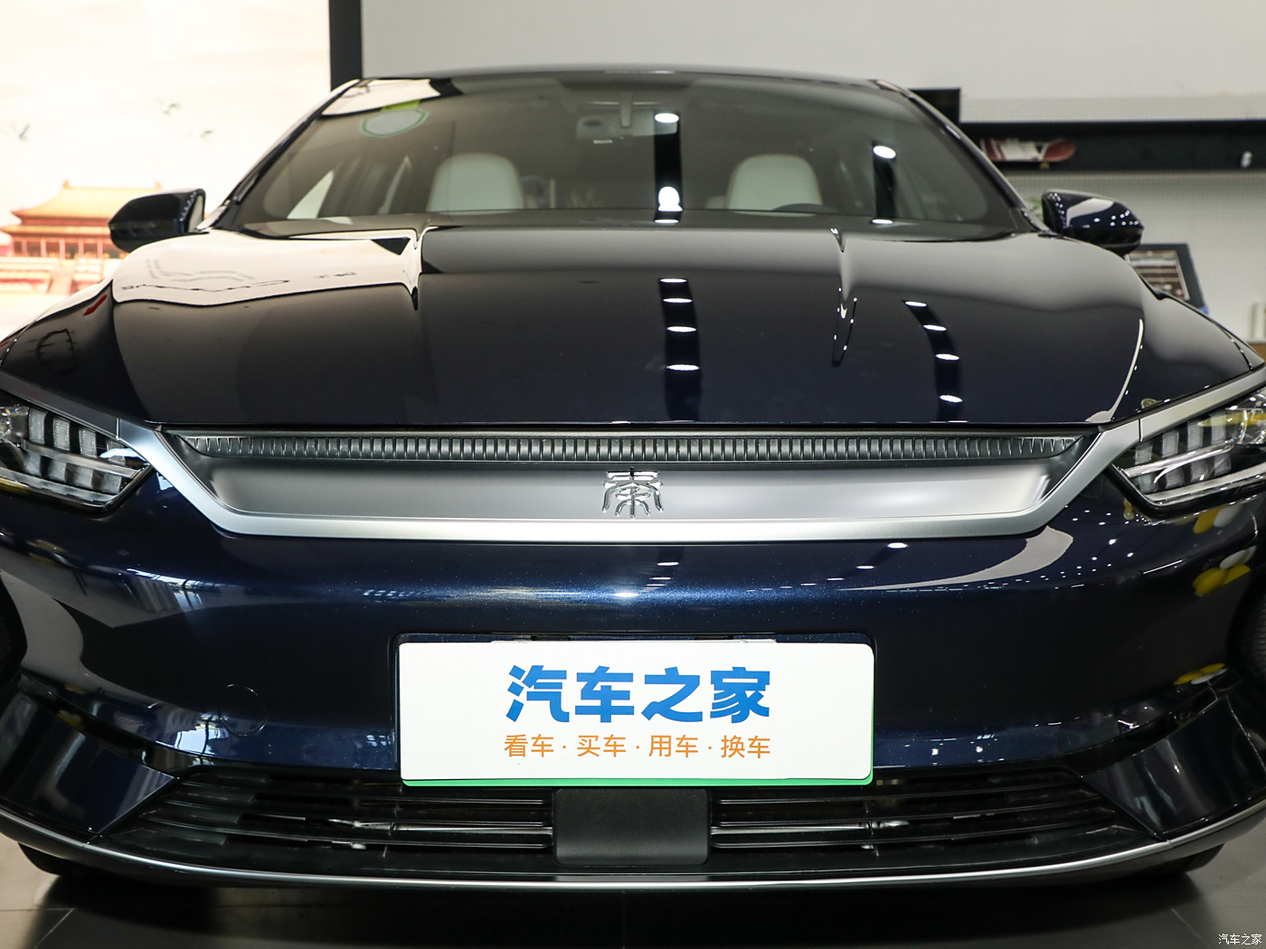BYD Qin: (602, 467, 664, 517)
